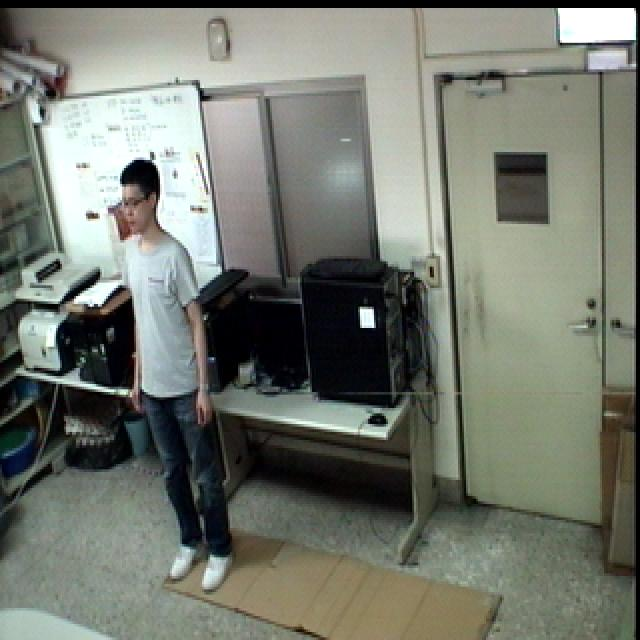stand: (115, 154, 250, 602)
